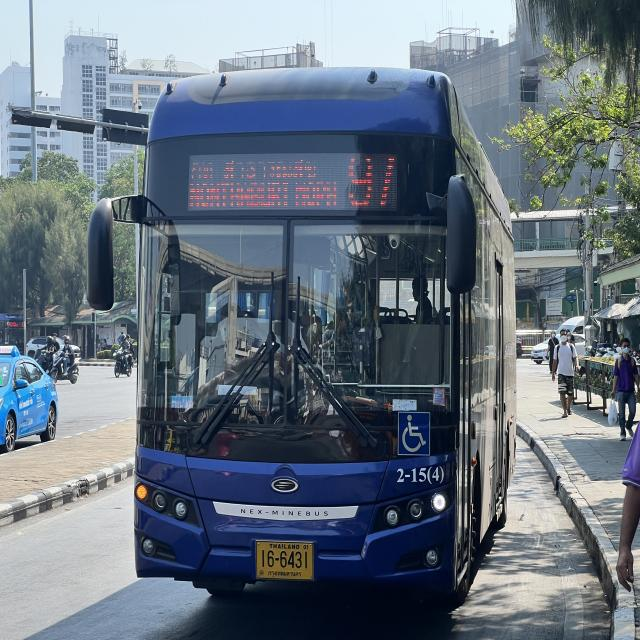Bus-Line-Number: (340, 143, 404, 212)
Destination-Sign-Normal: (185, 149, 339, 215)
TSB-Bus: (92, 67, 516, 605)
